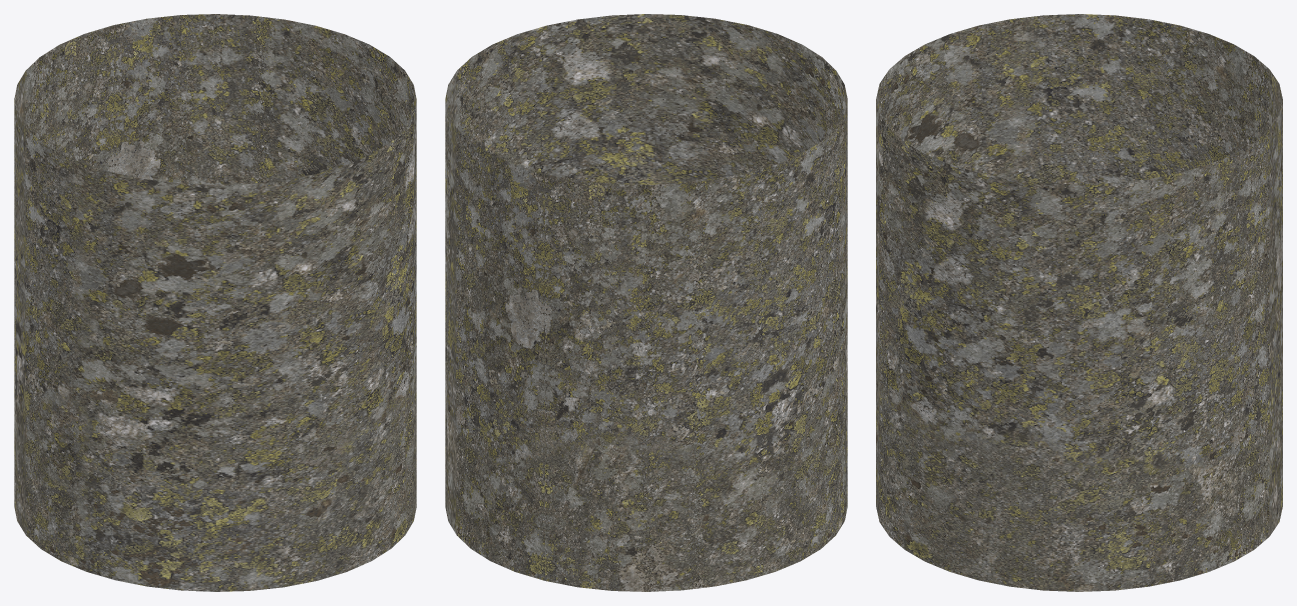
Rendered from suidao(3)_2.glb.
The picture shows the model from 3 angles, left to right: view 1: azimuth 30°, elevation 25°; view 2: azimuth 150°, elevation 25°; view 3: azimuth 270°, elevation 25°; orthographic projection.
Parts seen in each view (by area): view 1: XSBYSZK_01; view 2: XSBYSZK_01; view 3: XSBYSZK_01.
Part boxes in pixels (box(x1,y1,x2,y2)): XSBYSZK_01: box(14, 14, 416, 591); XSBYSZK_01: box(445, 14, 847, 591); XSBYSZK_01: box(876, 14, 1282, 591).
Size of the model in its own units: 7.54 by 8.4 by 7.6.
1 material, 1 textured.
